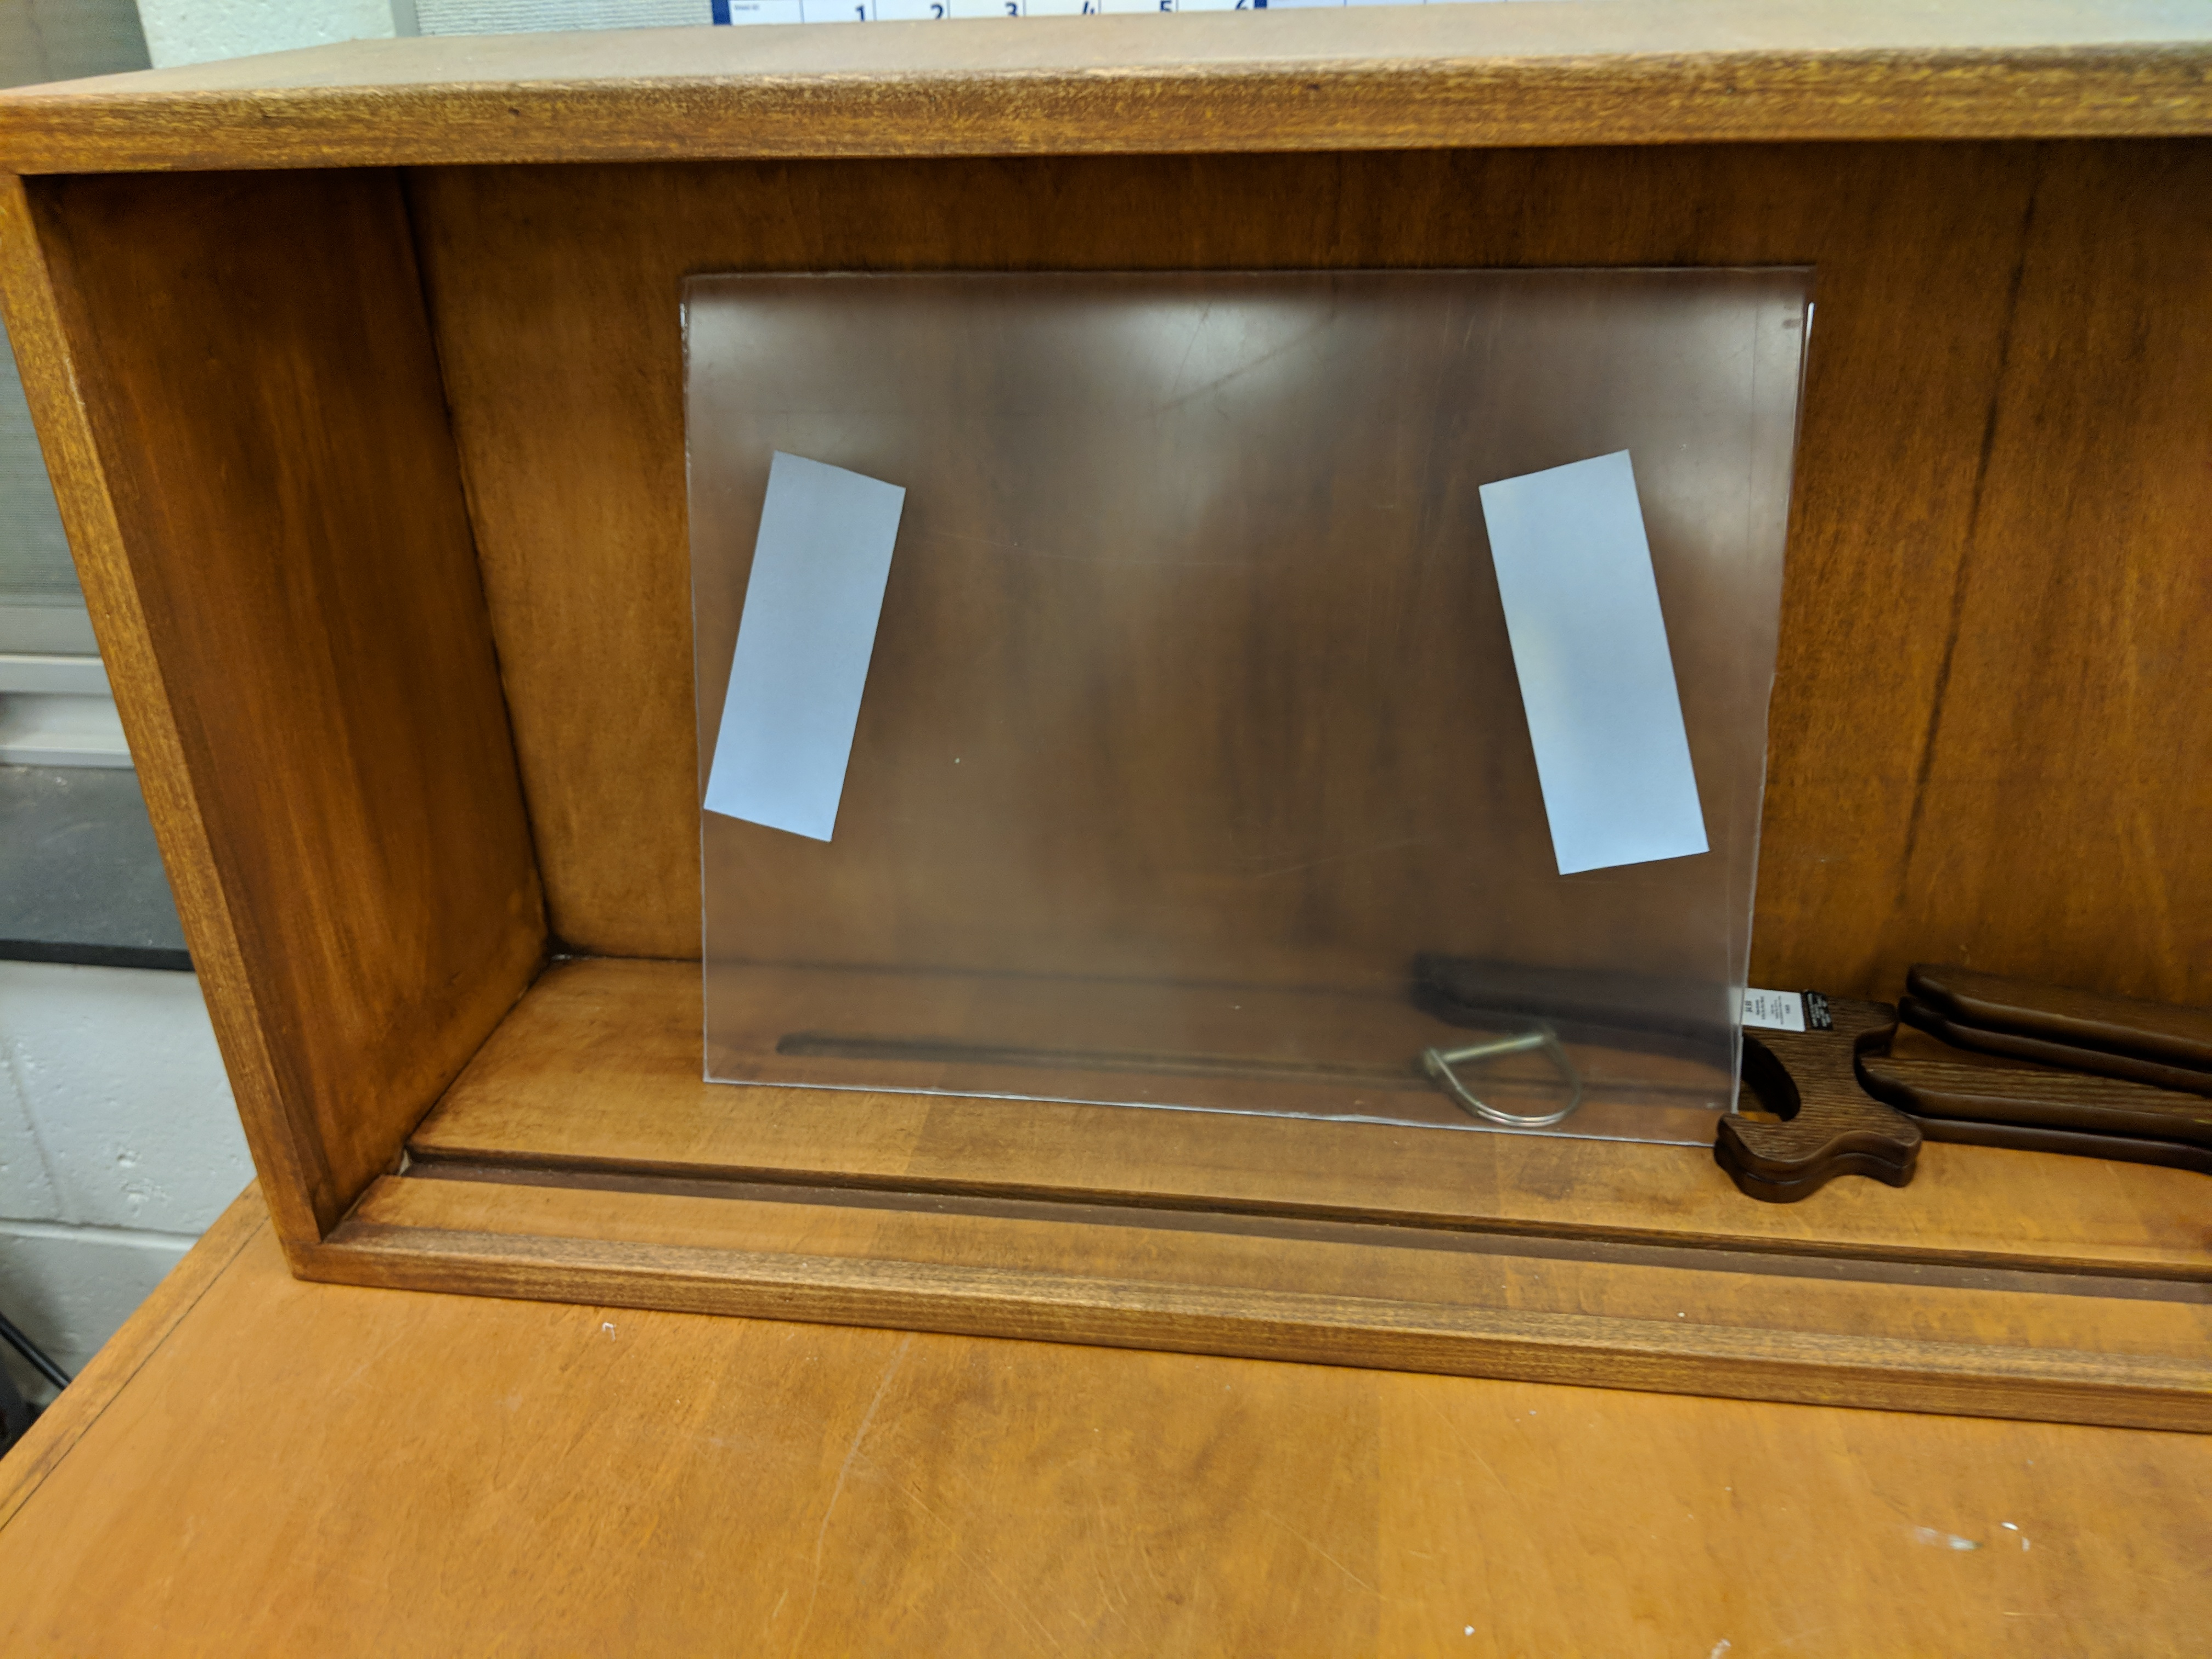vision_target: (695, 439, 1723, 890)
